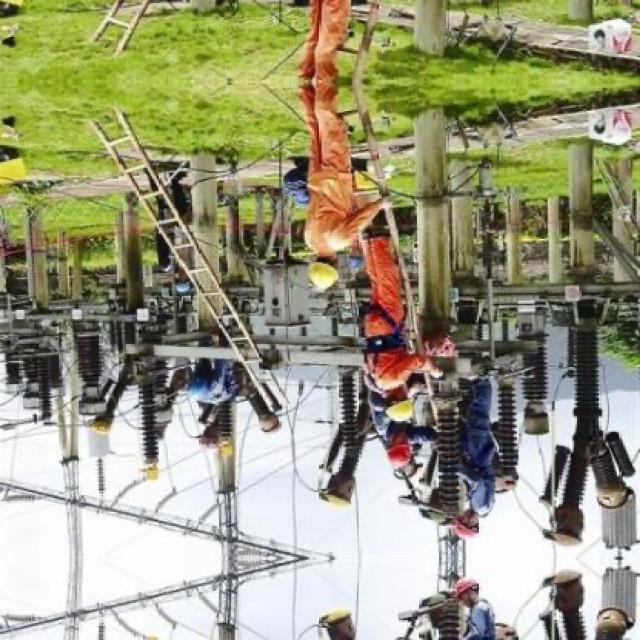con casco: (416, 483, 514, 556), (284, 252, 370, 302), (375, 385, 441, 431)
